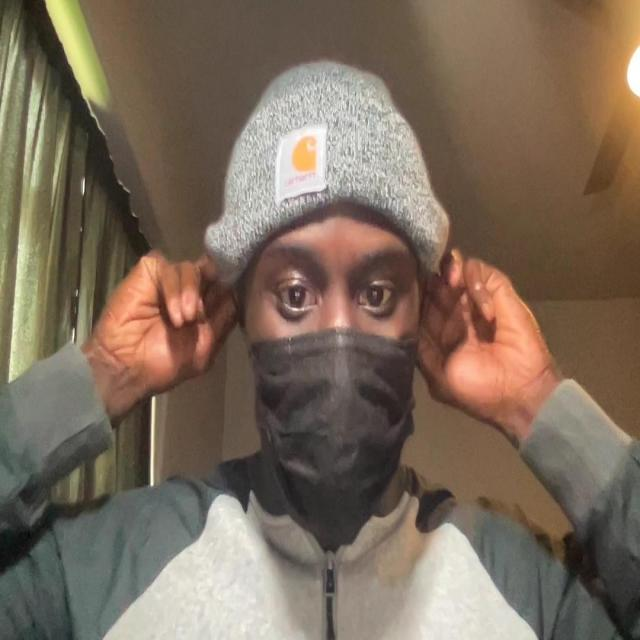face: (224, 186, 434, 524)
